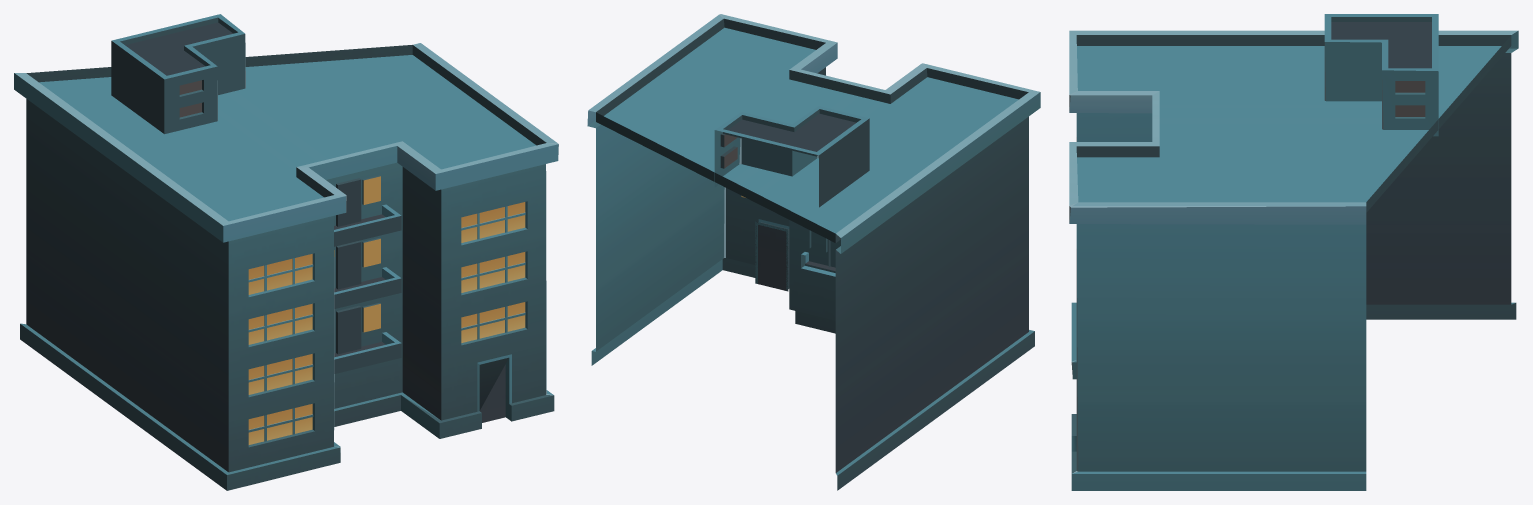
Rendered from SM_Building_1.fbx.
The picture shows the model from 3 angles, left to right: view 1: azimuth 30°, elevation 25°; view 2: azimuth 150°, elevation 25°; view 3: azimuth 270°, elevation 25°; orthographic projection. The views are drawn at different scales.
Parts seen in each view (by area): view 1: SM_Building_1; view 2: SM_Building_1; view 3: SM_Building_1.
Part boxes in pixels (x1,y1,x2,y2): SM_Building_1: (14, 14, 558, 490); SM_Building_1: (587, 14, 1040, 490); SM_Building_1: (1069, 14, 1518, 490).
Bounding box in the file's own units: 1301 × 1151 × 1401.
